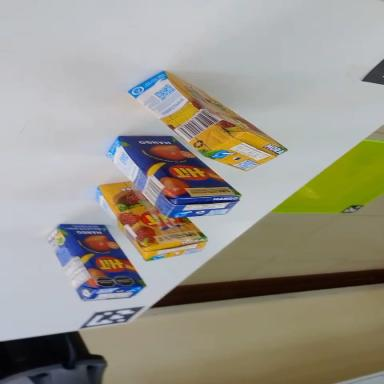HIT-MANGO: (100, 110, 243, 245), (40, 204, 146, 320)
HIT-MORA: (123, 55, 288, 193), (83, 159, 210, 283)
cara_F: (113, 109, 242, 228), (92, 155, 207, 273), (164, 66, 287, 156), (57, 203, 146, 308)
